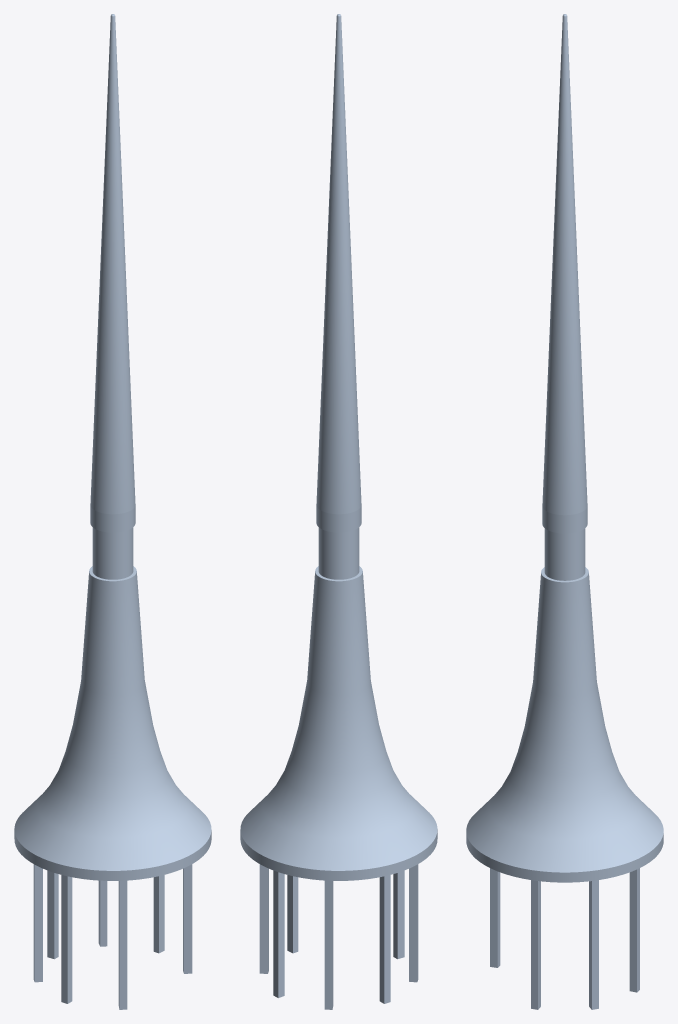
File: TOP.glb
3 views of the same model, side by side, from view 1: azimuth 30°, elevation 25°; view 2: azimuth 150°, elevation 25°; view 3: azimuth 270°, elevation 25° (orthographic).
Parts seen in each view (by area): view 1: Cylinder; view 2: Cylinder; view 3: Cylinder.
Part boxes in pixels (<box>): Cylinder: <box>14,14,211,1009</box>; Cylinder: <box>240,14,437,1009</box>; Cylinder: <box>466,14,663,1009</box>.
Size of the model in its own units: 8.78 by 47.35 by 8.78.
